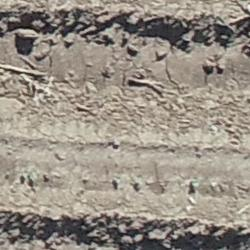cotton: (193, 180, 199, 187), (114, 175, 119, 182), (27, 173, 33, 178)
